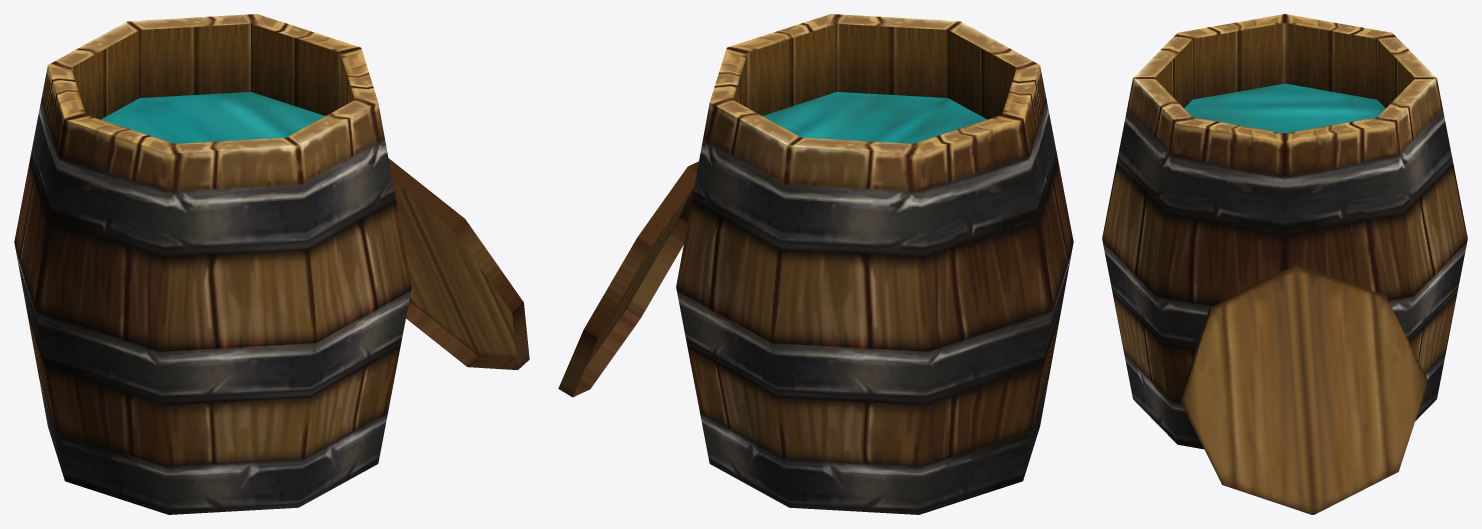
The model's file is Tong04.FBX.
3 renders of one model, left to right at view 1: azimuth 30°, elevation 25°; view 2: azimuth 150°, elevation 25°; view 3: azimuth 270°, elevation 25°, orthographic. The views are drawn at different scales.
Visible parts, largest first — view 1: 对象014; view 2: 对象014; view 3: 对象014.
Boxes of the visible parts, <box> form: 对象014: <box>14,14,529,514</box>; 对象014: <box>558,14,1073,514</box>; 对象014: <box>1102,14,1467,514</box>.
Size of the model in its own units: 52.24 by 39.14 by 40.41.
